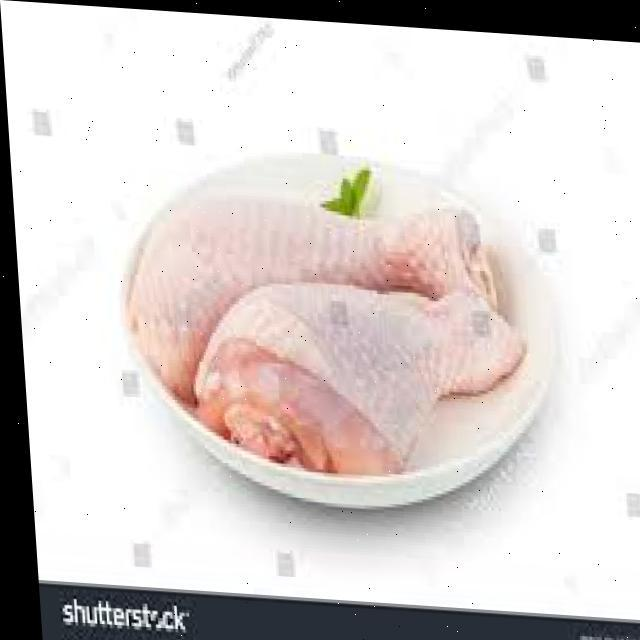leg: (188, 257, 522, 501), (120, 185, 500, 378)
